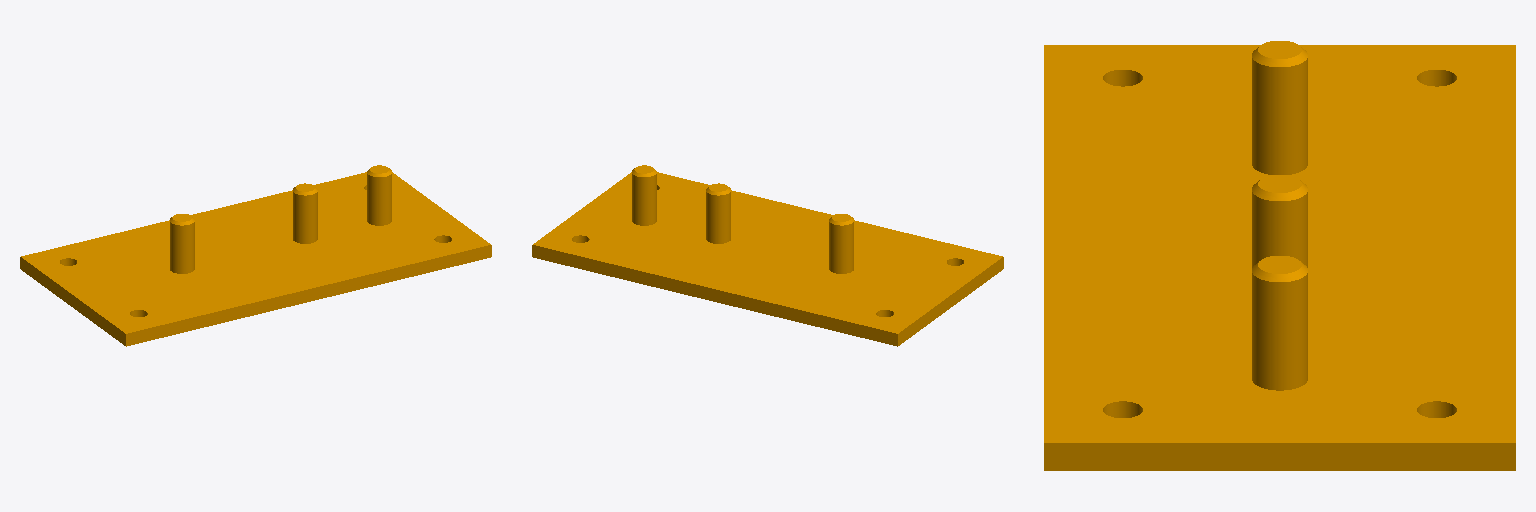
robot.urdf — industreal_gear_base:
<?xml version="1.0"?>
<robot name="industreal_gear_base">
    <link name="industreal_gear_base">
        <visual>
            <geometry>
                <mesh filename="../mesh/industreal_gears/industreal_gear_base.obj"/>
            </geometry>
        </visual>
        <collision>
            <geometry>
                <mesh filename="../mesh/industreal_gears/industreal_gear_base.obj"/>
            </geometry>
            <sdf resolution="256"/>
        </collision>
    </link>
</robot>

--- Render facts (derived) ---
3 views of the same robot in one strip: view 1: azimuth 30°, elevation 25°; view 2: azimuth 150°, elevation 25°; view 3: azimuth 270°, elevation 25° (orthographic).
Model industreal_gear_base with 1 links and 0 joints (none), rooted at industreal_gear_base, posed all joints at 0.
Visible links, largest first — view 1: industreal_gear_base; view 2: industreal_gear_base; view 3: industreal_gear_base.
Boxes of the visible links, x1,y1,x2,y2 form: industreal_gear_base: [20, 165, 491, 346]; industreal_gear_base: [532, 165, 1003, 346]; industreal_gear_base: [1044, 41, 1515, 470].
Bounding box of the posed robot: 0.15 × 0.075 × 0.025 m (x, y, z).
1 mesh visuals loaded from 1 distinct referenced files (1 OBJ).